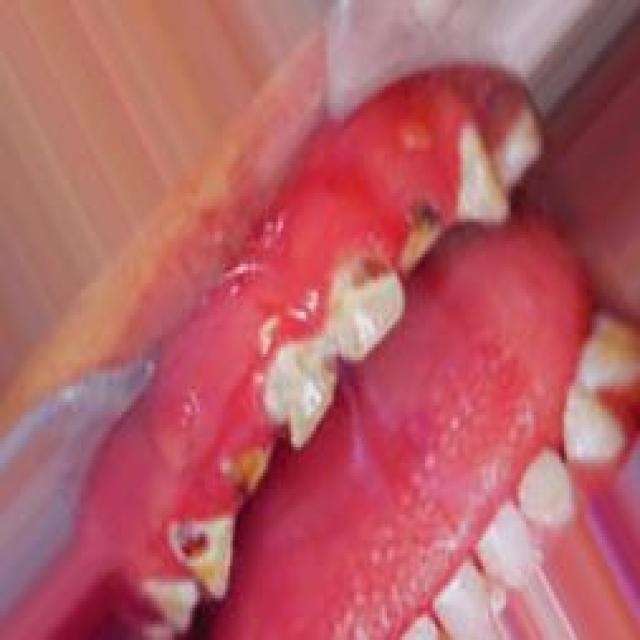caries: (168, 516, 238, 600), (282, 352, 339, 452), (399, 201, 446, 277), (224, 444, 282, 496), (350, 248, 400, 304)
